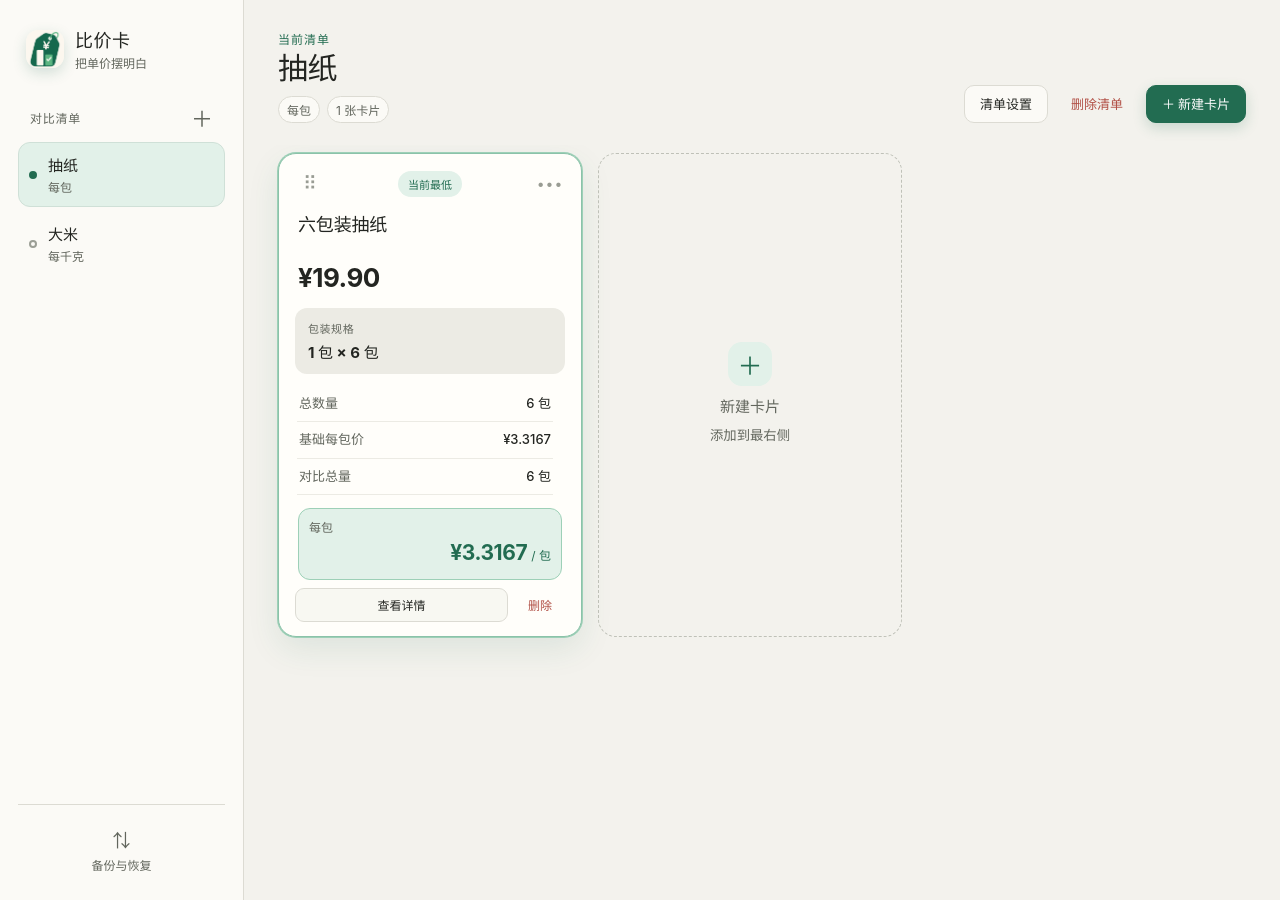
it: App › 从件数清单切换到重量清单时不会用旧卡片执行重量计算
Expected: the heading "抽纸" is shown, [278,50,337,86]
Expected: the heading "六包装抽纸" is shown, [298,214,387,235]
Click the button "大米 每千克".
click(122, 244)  # box [18,211,225,276]
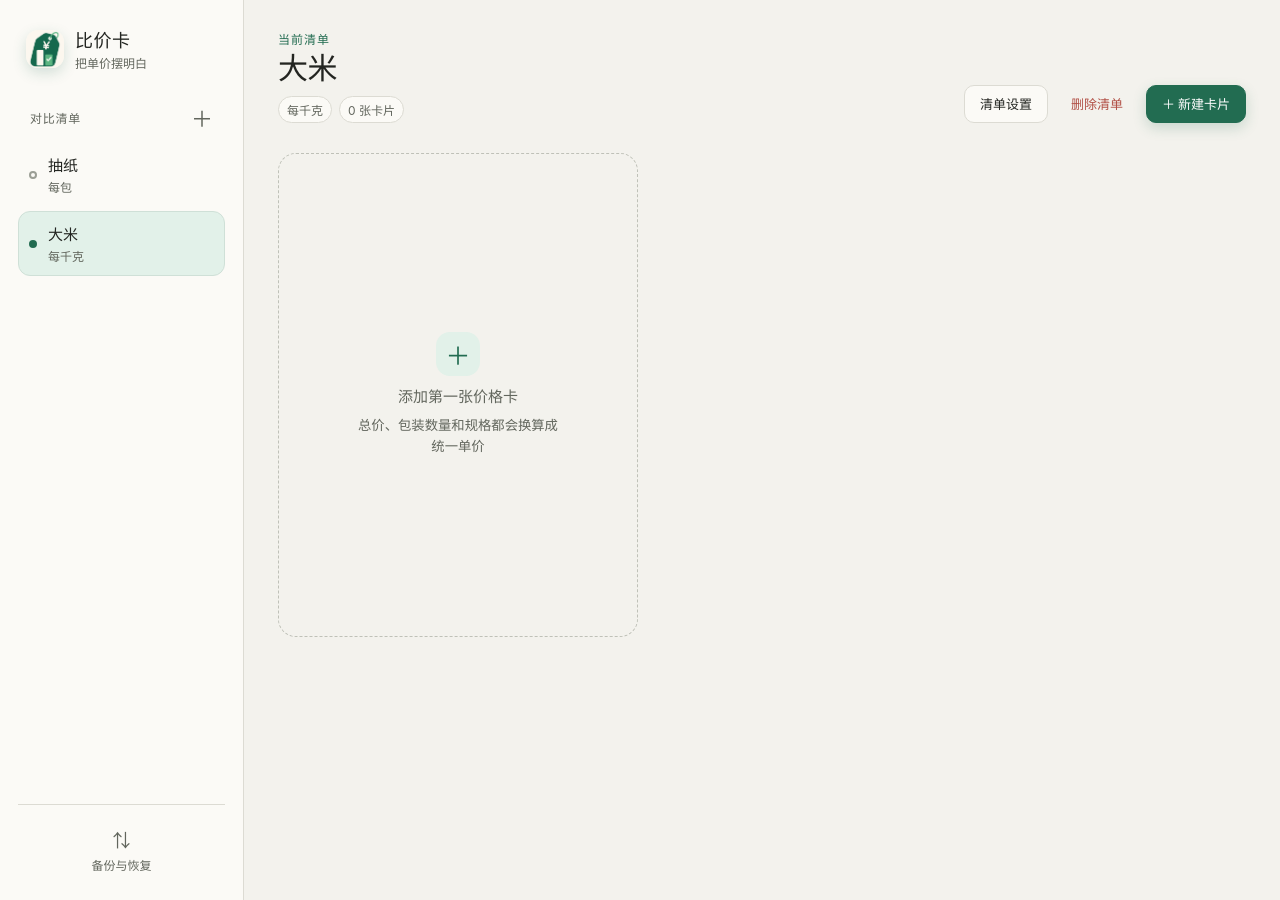
Expected: the heading "大米" is shown, [278,50,337,86]
Expected: the button "＋ 添加第一张价格卡 总价、包装数量和规格都会换算成统一单价" is shown, [278,153,638,637]
